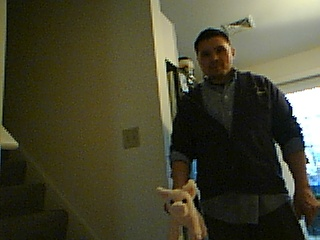piggy: (156, 178, 210, 240)
